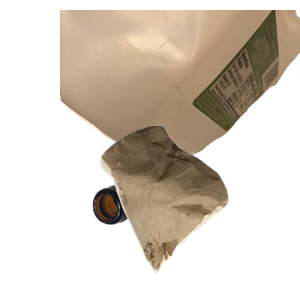glass: (90, 148, 300, 300)
metal: (84, 53, 279, 202)
plastic: (60, 10, 300, 160)
trash: (98, 123, 300, 300)
